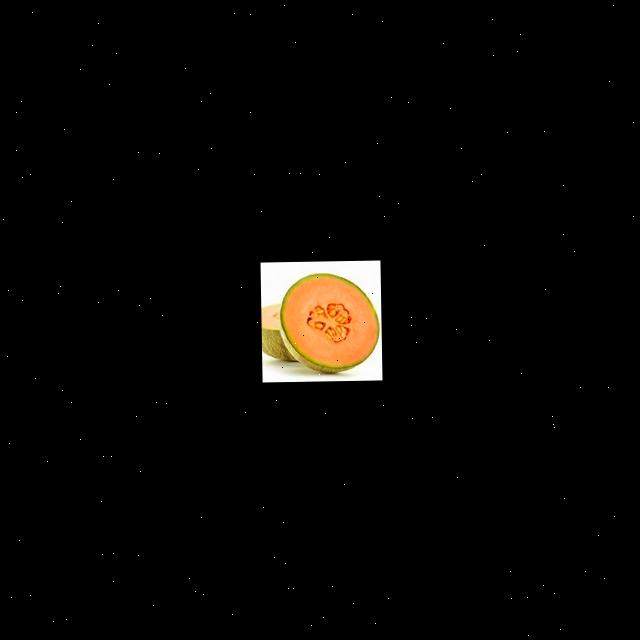Hami Melon: (276, 271, 379, 374)
